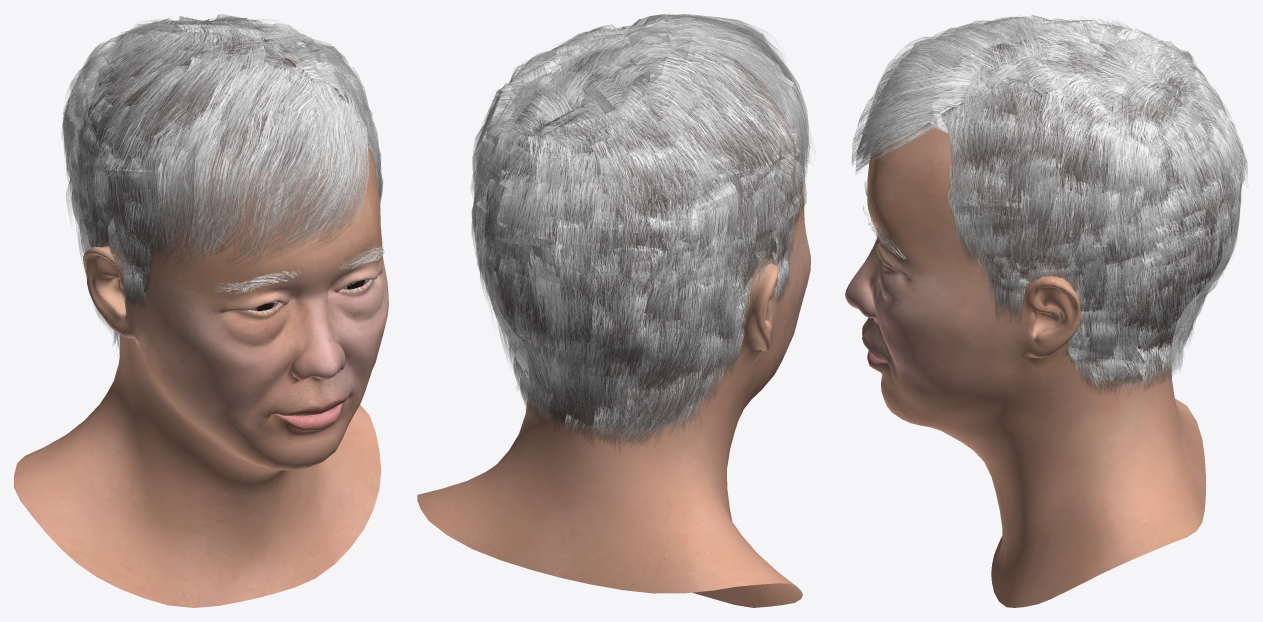
File: 真人头像_男_老年01_opt.glb
The picture shows the model from 3 angles, left to right: view 1: azimuth 30°, elevation 25°; view 2: azimuth 150°, elevation 25°; view 3: azimuth 270°, elevation 25°; orthographic projection. The views are drawn at different scales.
Parts seen in each view (by area): view 1: Middle_Aged_Asian_Man1, Middle_Aged_Asian_Man1_Hair_1, Middle_Aged_Asian_Man1_1, Middle_Aged_Asian_Man1_Hair; view 2: Middle_Aged_Asian_Man1_Hair_1, Middle_Aged_Asian_Man1, Middle_Aged_Asian_Man1_1; view 3: Middle_Aged_Asian_Man1, Middle_Aged_Asian_Man1_Hair_1, Middle_Aged_Asian_Man1_1.
Boxes of the visible parts, bbox=[...] form: Middle_Aged_Asian_Man1: bbox=[14, 27, 388, 607]; Middle_Aged_Asian_Man1_Hair_1: bbox=[62, 14, 383, 347]; Middle_Aged_Asian_Man1_1: bbox=[90, 53, 379, 601]; Middle_Aged_Asian_Man1_Hair: bbox=[214, 247, 384, 294]; Middle_Aged_Asian_Man1_Hair_1: bbox=[470, 14, 810, 450]; Middle_Aged_Asian_Man1: bbox=[417, 49, 810, 607]; Middle_Aged_Asian_Man1_1: bbox=[557, 49, 807, 592]; Middle_Aged_Asian_Man1: bbox=[845, 39, 1234, 607]; Middle_Aged_Asian_Man1_Hair_1: bbox=[851, 15, 1247, 396]; Middle_Aged_Asian_Man1_1: bbox=[851, 55, 1201, 572].
Bounding box in the file's own units: 0.2008 × 0.3 × 0.2022.
Materials: 7 (6 with a texture image).
